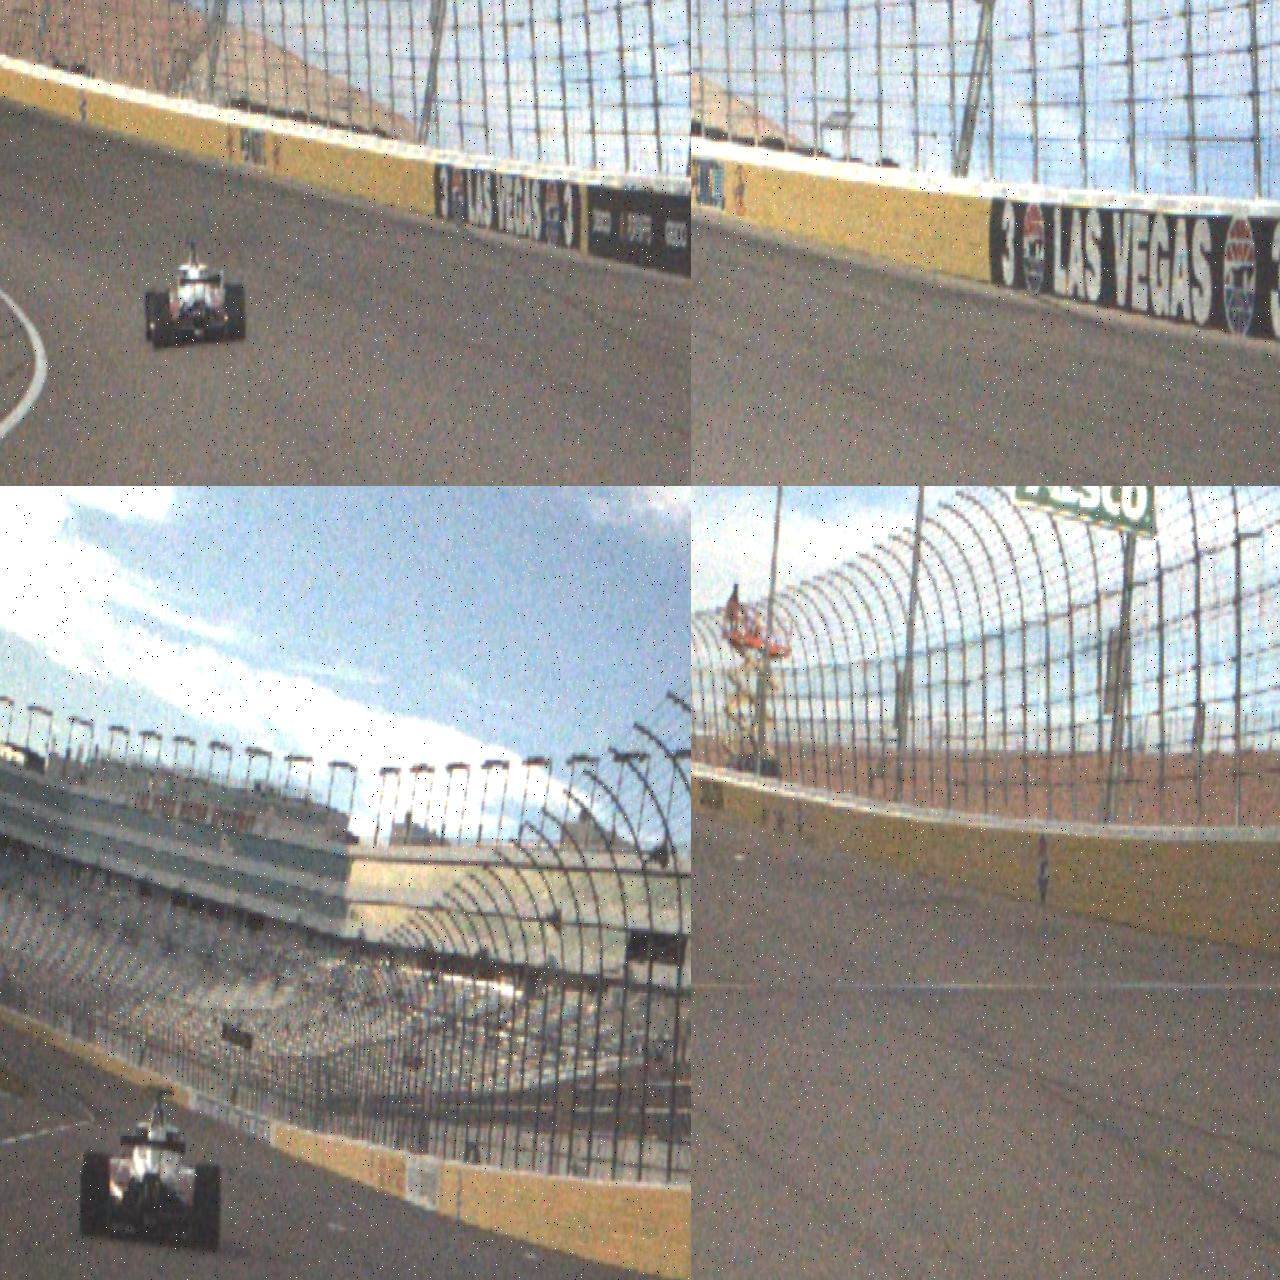AV: (79, 1083, 224, 1254), (144, 239, 247, 352)
Wheel: (80, 1151, 110, 1239), (195, 1163, 222, 1253), (225, 284, 246, 341), (152, 292, 170, 349), (144, 290, 159, 342)
